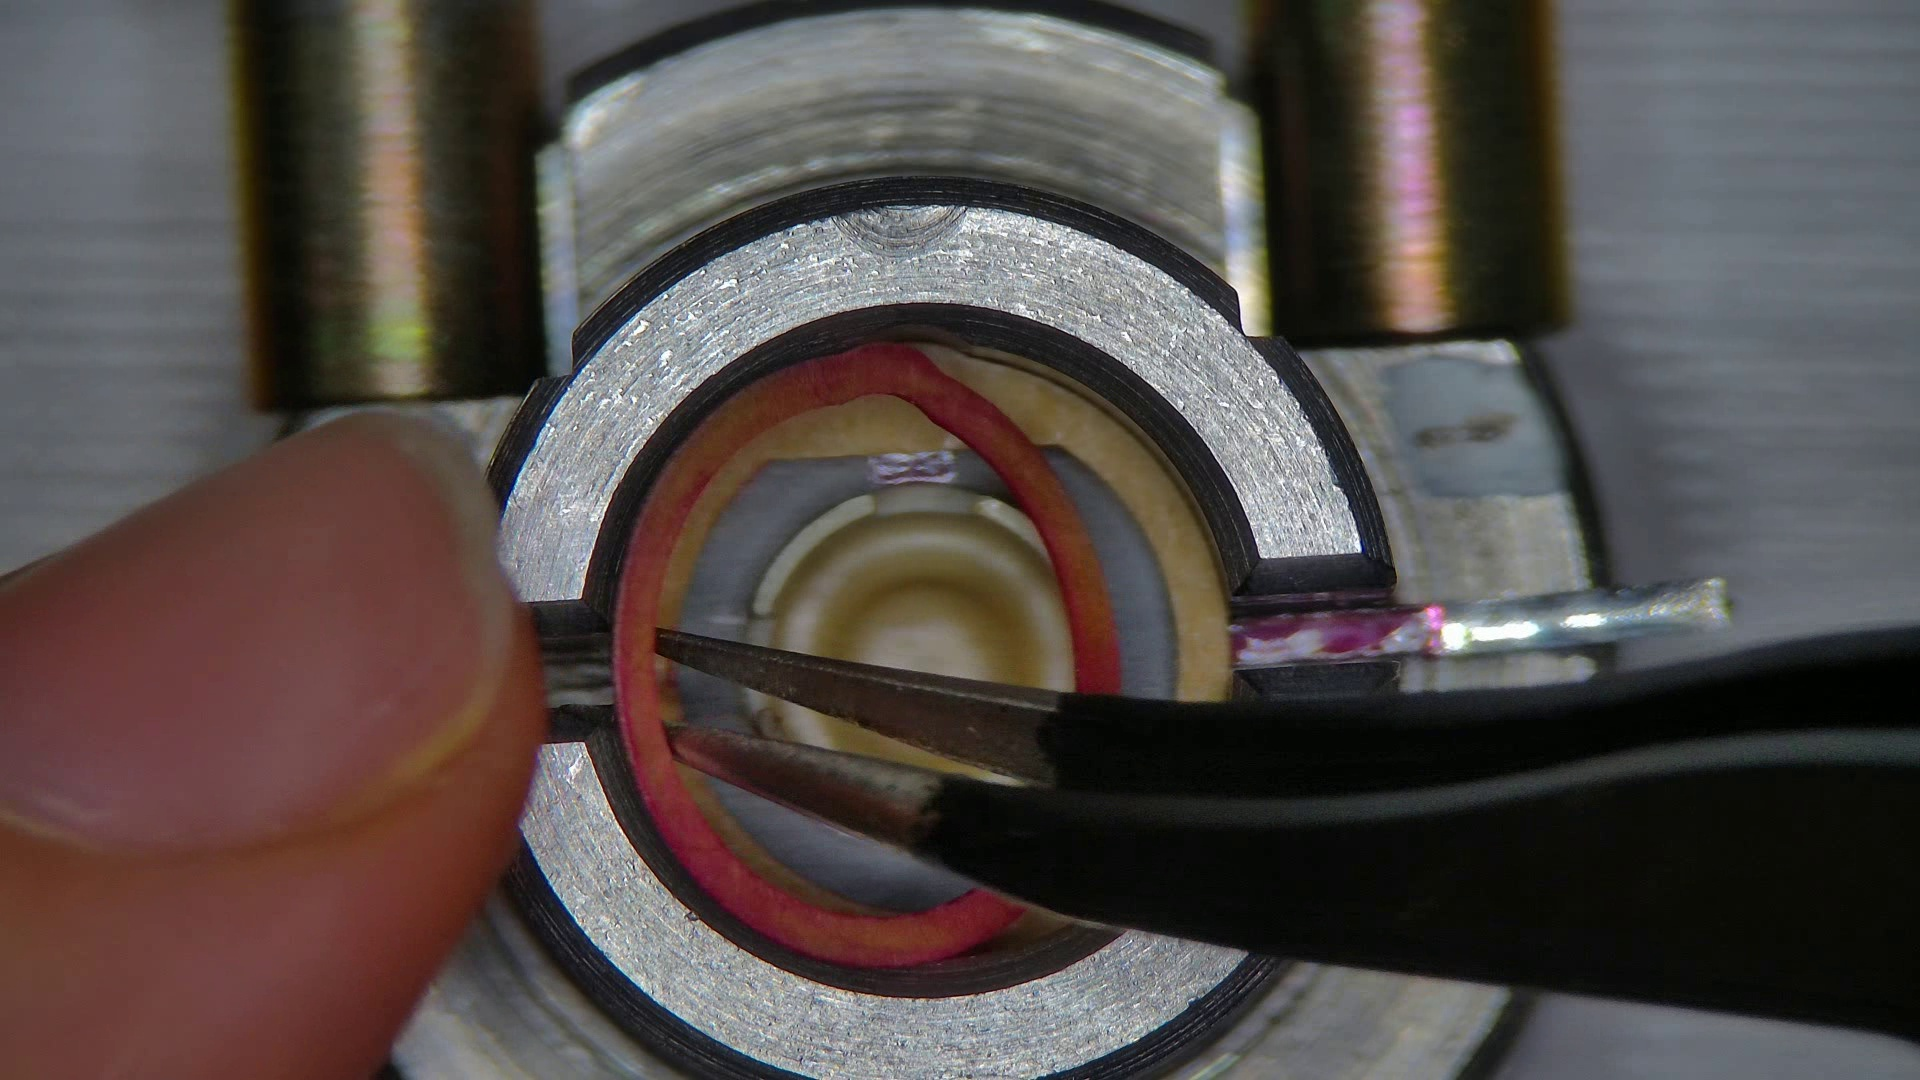GreyOring: (613, 344, 1124, 968)
YellowOring: (680, 454, 1001, 640), (708, 775, 976, 909), (1047, 450, 1178, 702), (674, 667, 752, 731)
redOring: (924, 343, 1236, 700), (655, 392, 953, 629), (675, 753, 861, 909), (990, 905, 1065, 952), (655, 657, 680, 719)
